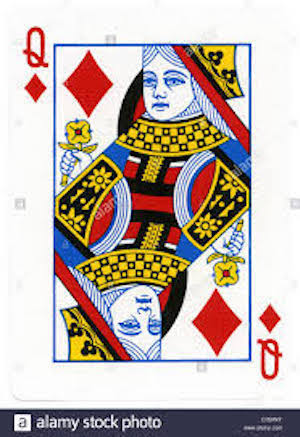QueenOfDiamonds: (6, 8, 295, 402)
